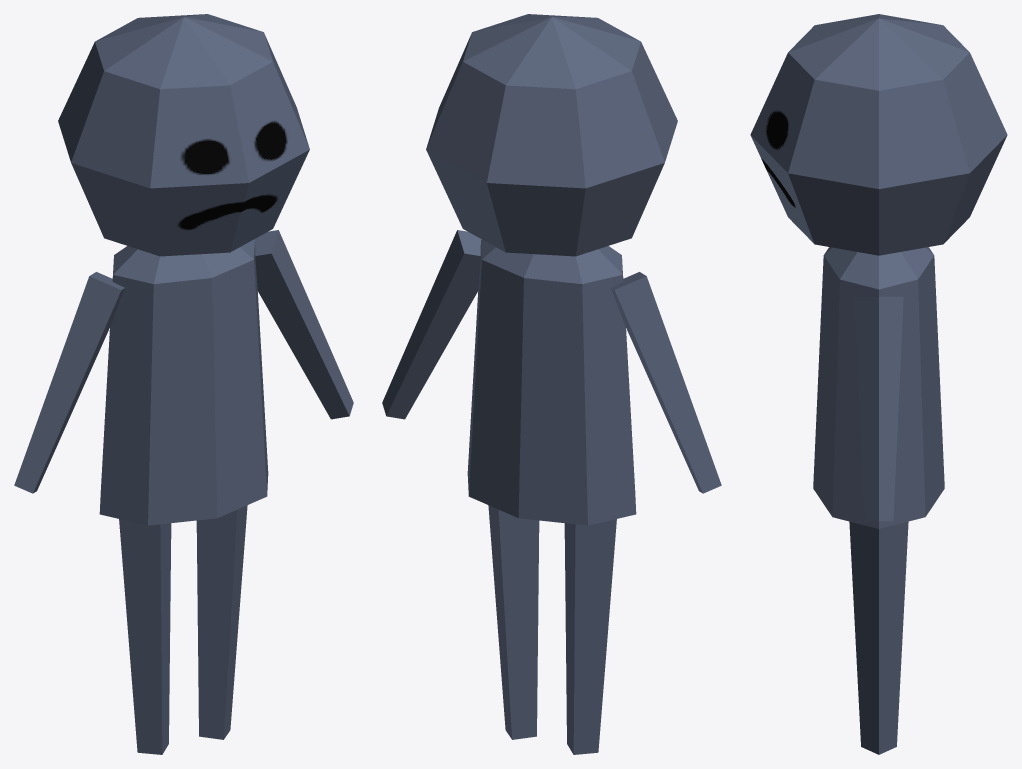
Rendered from bodhisattva.gltf.
3 renders of one model, left to right at view 1: azimuth 30°, elevation 25°; view 2: azimuth 150°, elevation 25°; view 3: azimuth 270°, elevation 25°, orthographic.
Visible parts, largest first — view 1: head, body, right leg, left leg, right arm, left arm; view 2: head, body, right leg, left leg, right arm, left arm; view 3: head, body, left leg, left arm.
Boxes of the visible parts, bbox=[...] form: head: bbox=[58, 14, 309, 256]; body: bbox=[99, 239, 268, 525]; right leg: bbox=[119, 519, 171, 754]; left leg: bbox=[196, 505, 247, 739]; right arm: bbox=[14, 272, 124, 493]; left arm: bbox=[254, 230, 353, 419]; head: bbox=[426, 14, 677, 256]; body: bbox=[467, 239, 636, 525]; right leg: bbox=[564, 519, 616, 754]; left leg: bbox=[488, 505, 539, 739]; right arm: bbox=[611, 272, 721, 493]; left arm: bbox=[382, 230, 481, 419]; head: bbox=[750, 14, 1007, 255]; body: bbox=[813, 247, 944, 528]; left leg: bbox=[849, 521, 908, 754]; left arm: bbox=[854, 296, 903, 521].
Size of the model in its own units: 3.01 by 6.13 by 2.
2 materials, 1 textured.
